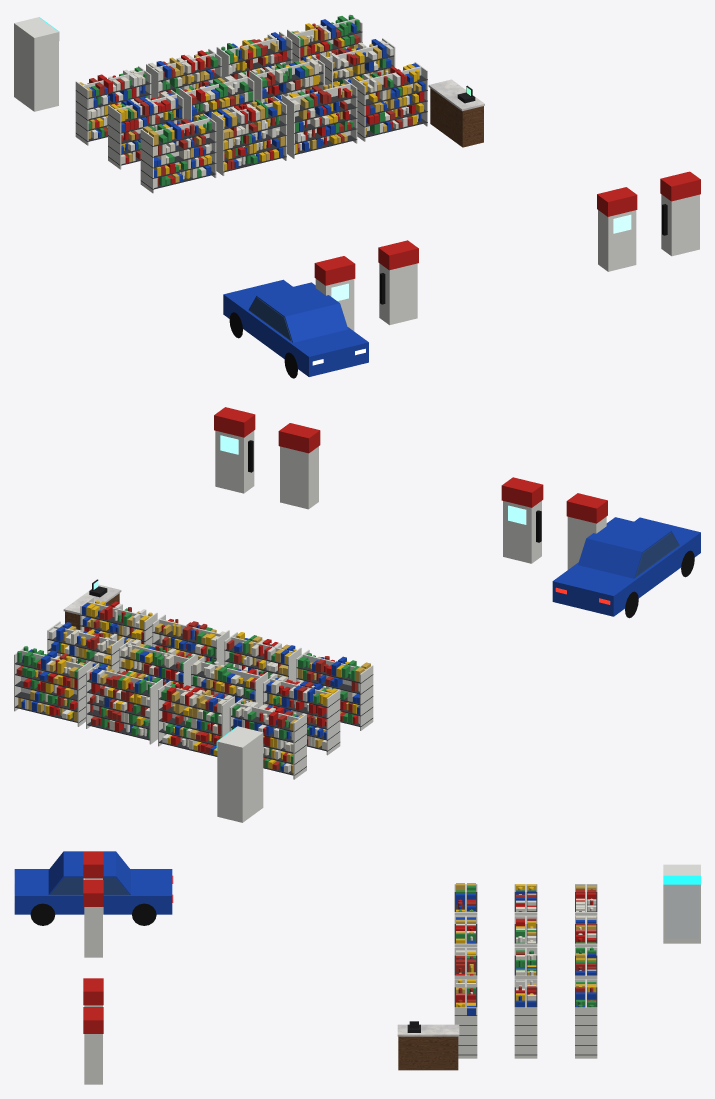
File: i_gas_station.gltf
3 views of the same model, one above another, from view 1: azimuth 30°, elevation 25°; view 2: azimuth 150°, elevation 25°; view 3: azimuth 270°, elevation 25° (orthographic). The views are drawn at different scales.
Parts seen in each view (by area): view 1: I_gas_station; view 2: I_gas_station; view 3: I_gas_station.
Boxes of the visible parts, left/top/right/bottom form: I_gas_station: left=14, top=14, right=700, bottom=378; I_gas_station: left=14, top=407, right=700, bottom=822; I_gas_station: left=14, top=851, right=700, bottom=1084.
Bounding box in the file's own units: 12.24 × 2.08 × 18.3.
Materials: 20 (3 with a texture image).
